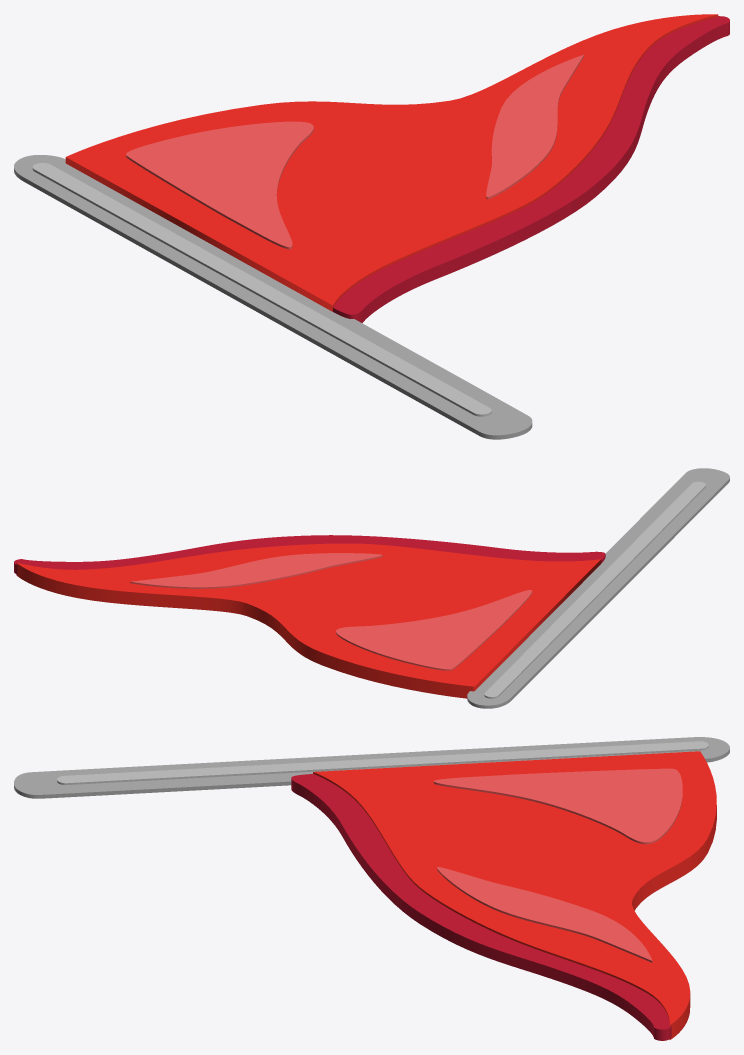
The model's file is emoji_u1f6a9.glb.
3 views of the same model, one above another, from view 1: azimuth 30°, elevation 25°; view 2: azimuth 150°, elevation 25°; view 3: azimuth 270°, elevation 25° (orthographic). The views are drawn at different scales.
Parts seen in each view (by area): view 1: emoji_u1f6a9; view 2: emoji_u1f6a9; view 3: emoji_u1f6a9.
Boxes of the visible parts, x1,y1,x2,y2 form: emoji_u1f6a9: (14,14,729,439); emoji_u1f6a9: (14,468,729,708); emoji_u1f6a9: (14,737,729,1040).
Bounding box in the file's own units: 0.0335 × 0.001 × 0.0342.
